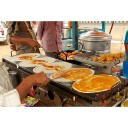dosa: (68, 62, 123, 93), (5, 56, 71, 73)
